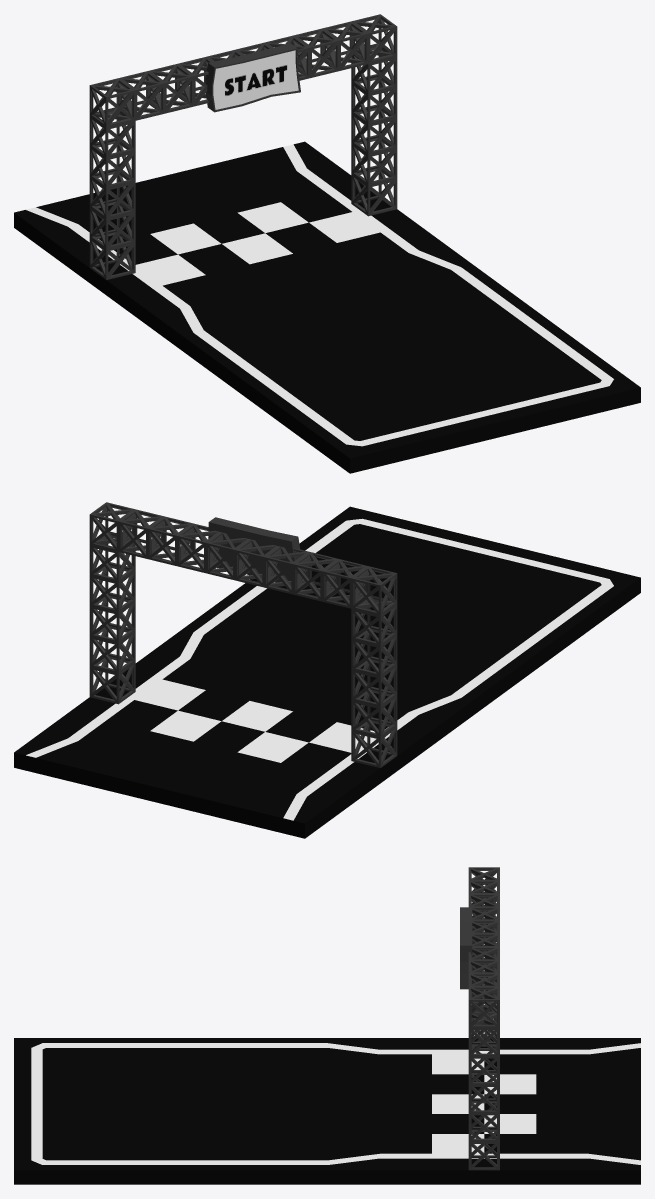
Rendered from start_export.fbx.
The picture shows the model from 3 angles, top to bottom: view 1: azimuth 30°, elevation 25°; view 2: azimuth 150°, elevation 25°; view 3: azimuth 270°, elevation 25°; orthographic projection. The views are drawn at different scales.
Visible parts, largest first — view 1: Cube.003, Cube, Cube.001, Cube.002, Cube.004; view 2: Cube, Cube.003, Cube.002, Cube.001, Cube.004; view 3: Cube.003, Cube, Cube.002, Cube.001, Cube.004.
Part boxes in pixels (bbox=[...]): Cube.003: bbox=[182, 264, 640, 473]; Cube: bbox=[14, 141, 472, 350]; Cube.001: bbox=[89, 47, 397, 279]; Cube.002: bbox=[89, 14, 397, 127]; Cube.004: bbox=[205, 43, 300, 112]; Cube: bbox=[14, 629, 472, 838]; Cube.003: bbox=[182, 506, 640, 715]; Cube.002: bbox=[89, 502, 397, 615]; Cube.001: bbox=[89, 535, 397, 767]; Cube.004: bbox=[208, 517, 299, 582]; Cube.003: bbox=[14, 1038, 327, 1184]; Cube: bbox=[327, 1038, 640, 1184]; Cube.002: bbox=[468, 867, 499, 1028]; Cube.001: bbox=[468, 898, 499, 1170]; Cube.004: bbox=[460, 907, 472, 989].
Bounding box in the file's own units: 2000 × 1352 × 4000.
Materials: 4 (1 with a texture image).
